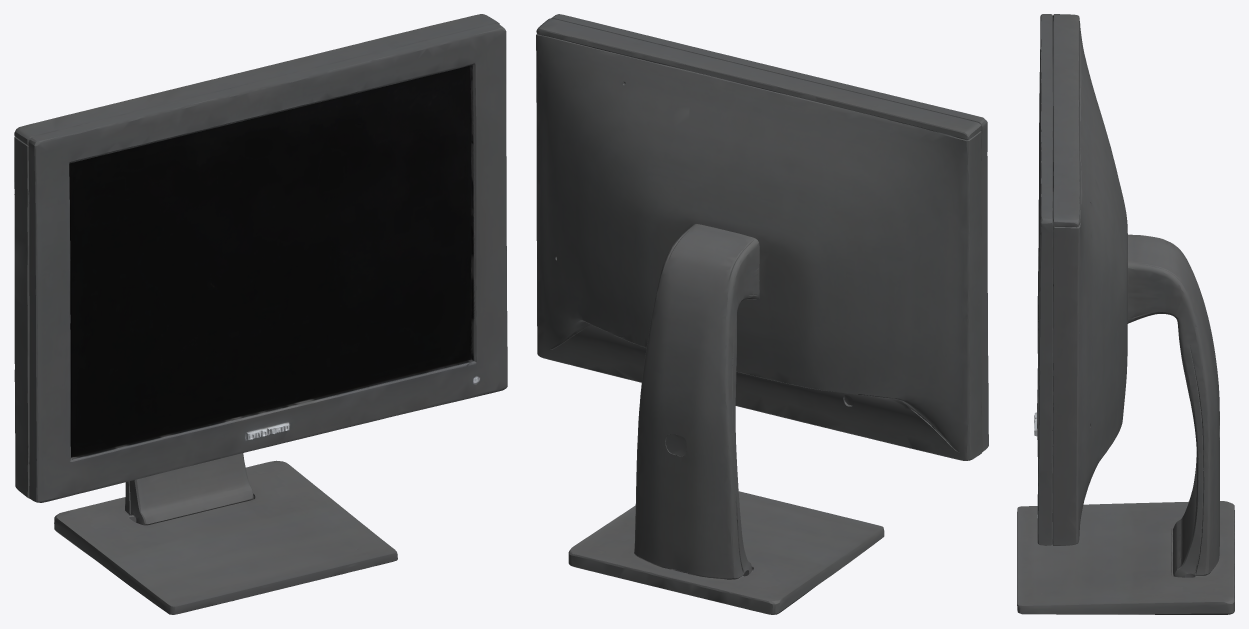
File: monitor.glb
The picture shows the model from 3 angles, left to right: view 1: azimuth 30°, elevation 25°; view 2: azimuth 150°, elevation 25°; view 3: azimuth 270°, elevation 25°; orthographic projection. The views are drawn at different scales.
Visible parts, largest first — view 1: model; view 2: model; view 3: model.
Part boxes in pixels (x1,y1,x2,y2): model: [14, 14, 507, 614]; model: [536, 14, 988, 614]; model: [1017, 14, 1234, 614].
Size of the model in its own units: 1.89 by 1.89 by 0.8347.
1 material, 1 textured.
